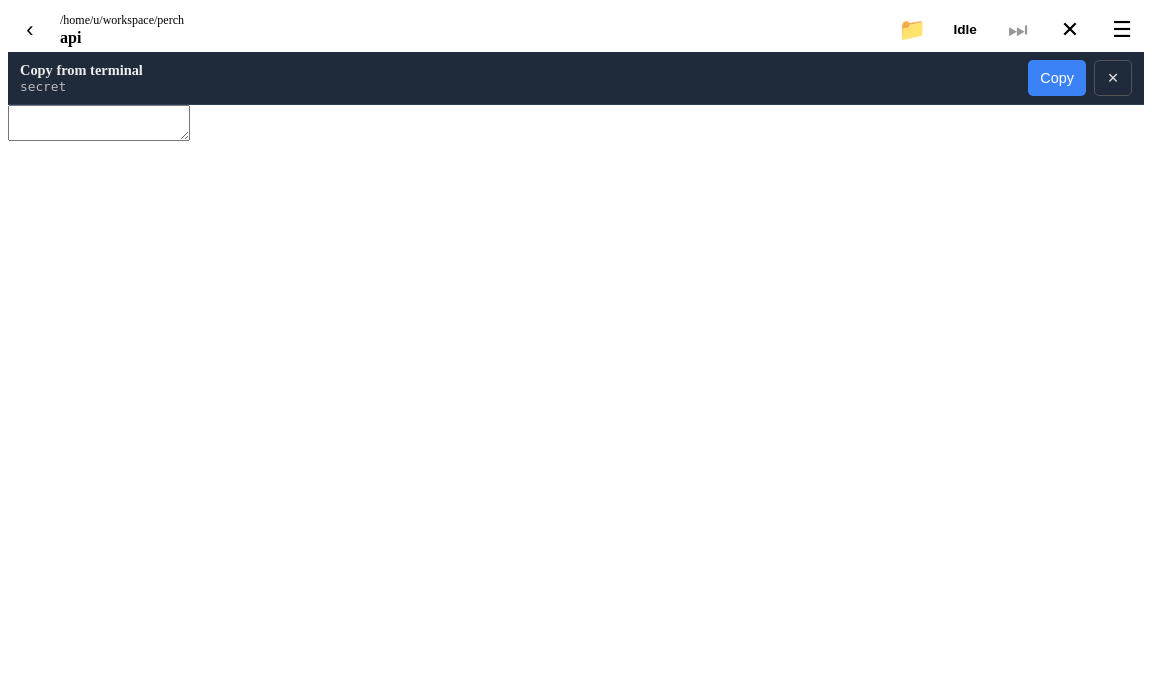
Test: TerminalView › dismisses the copy offer without copying
Expected: the element with test id "copy-offer" is shown, [8, 52, 1144, 105]
Click the button named "Dismiss" at (1113, 78), box [1094, 60, 1132, 96]
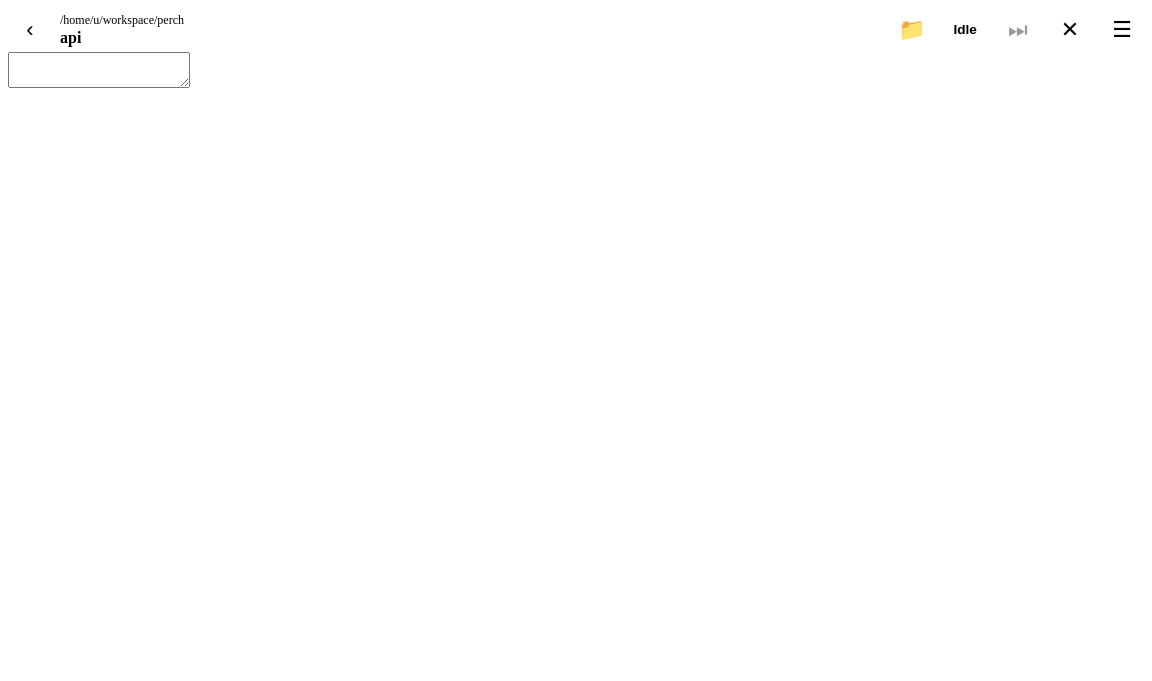
Now the element with test id "copy-offer" is gone
